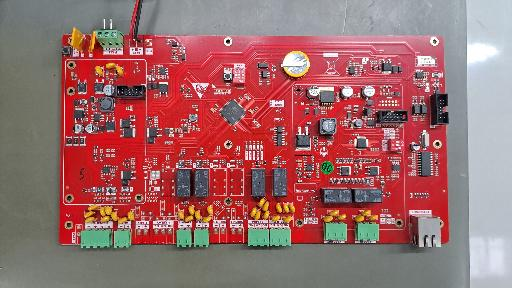var: (70, 27, 85, 52), (88, 31, 96, 53), (115, 64, 124, 76), (83, 211, 96, 218), (262, 201, 270, 212), (369, 214, 379, 222), (262, 210, 270, 220), (127, 211, 135, 221), (95, 66, 103, 76), (354, 215, 365, 222), (188, 204, 195, 215), (105, 205, 112, 216), (105, 62, 116, 69), (258, 198, 266, 207), (88, 205, 100, 211), (178, 210, 185, 220), (329, 209, 339, 216), (323, 215, 333, 222), (254, 210, 261, 220), (111, 211, 118, 221), (202, 216, 212, 223), (250, 207, 257, 217), (85, 217, 96, 223), (100, 216, 111, 222), (118, 217, 127, 224), (99, 207, 106, 216), (337, 214, 347, 220), (271, 215, 281, 221), (195, 210, 201, 220), (207, 205, 213, 215), (184, 215, 194, 221), (276, 203, 282, 213), (283, 203, 289, 213), (289, 203, 295, 212), (283, 216, 292, 222), (362, 210, 371, 216)
